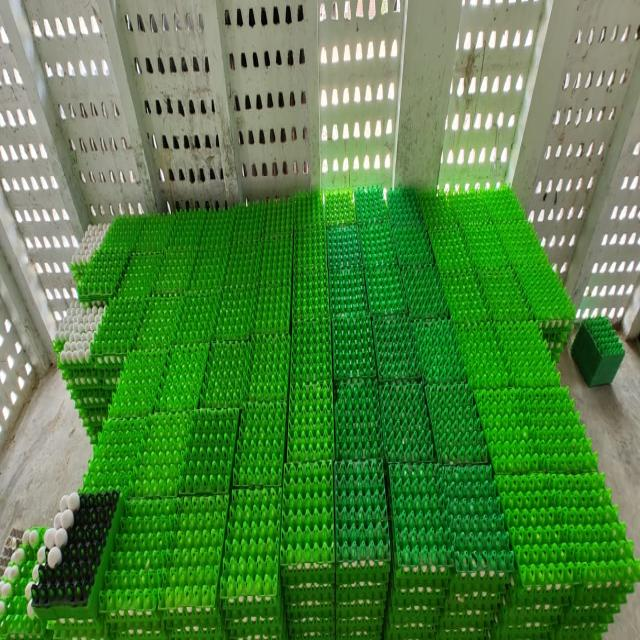egg_tray: (422, 190, 574, 360), (496, 475, 640, 636), (386, 463, 512, 636), (496, 474, 637, 585), (436, 465, 513, 631), (386, 463, 452, 637), (32, 492, 122, 617), (474, 386, 597, 472), (436, 466, 513, 595), (100, 498, 176, 628), (126, 409, 238, 497), (334, 461, 390, 635), (280, 461, 334, 636), (54, 301, 119, 441), (160, 496, 228, 627), (220, 487, 282, 628), (498, 219, 574, 332), (334, 460, 390, 598), (280, 462, 334, 598), (455, 321, 560, 388), (130, 412, 192, 496), (88, 299, 146, 386), (0, 528, 46, 636), (180, 409, 238, 493), (426, 383, 488, 461), (82, 417, 148, 490), (380, 380, 436, 461), (233, 401, 286, 486), (494, 322, 560, 387), (110, 347, 168, 417), (334, 379, 384, 459), (515, 264, 574, 331), (91, 297, 147, 367), (288, 380, 334, 460), (454, 324, 508, 389), (156, 344, 208, 411), (572, 318, 624, 385), (358, 221, 432, 268), (413, 320, 466, 383), (54, 301, 104, 367), (200, 341, 250, 407), (223, 587, 288, 637), (38, 494, 80, 569), (372, 316, 420, 379), (495, 212, 548, 269), (292, 273, 330, 352), (478, 264, 531, 320), (439, 264, 490, 321), (447, 189, 514, 232), (77, 247, 128, 302), (248, 335, 290, 400), (332, 316, 376, 378), (461, 216, 509, 272), (290, 318, 332, 382), (136, 294, 184, 349), (214, 280, 258, 339), (286, 585, 334, 639), (402, 265, 448, 318), (392, 207, 434, 265), (175, 291, 221, 342), (100, 217, 171, 250), (294, 191, 325, 265), (70, 225, 110, 280), (418, 191, 470, 233), (365, 263, 407, 313), (292, 266, 329, 322), (118, 252, 163, 297), (71, 389, 108, 443), (190, 242, 229, 293), (253, 280, 291, 332), (418, 191, 460, 238), (329, 265, 368, 315), (154, 247, 196, 293), (476, 186, 526, 224), (429, 227, 472, 271), (354, 224, 396, 268), (60, 361, 120, 391), (200, 207, 238, 253), (37, 615, 109, 639), (418, 192, 457, 236), (225, 240, 264, 284), (88, 420, 116, 481), (393, 224, 434, 265), (447, 191, 490, 230), (43, 614, 110, 639), (232, 202, 266, 251), (294, 225, 327, 275), (199, 209, 234, 256), (168, 209, 209, 249), (327, 225, 362, 271), (134, 214, 177, 251), (354, 186, 390, 229), (260, 236, 292, 283), (387, 186, 424, 225), (354, 186, 390, 224), (388, 187, 423, 225), (70, 387, 112, 418), (264, 198, 296, 238), (294, 191, 324, 233), (78, 402, 108, 443), (392, 194, 418, 241), (324, 189, 356, 225), (0, 528, 24, 571), (542, 328, 570, 363), (448, 216, 473, 245), (478, 207, 488, 222), (502, 187, 510, 195), (234, 235, 240, 244), (455, 212, 462, 219), (450, 597, 456, 605), (112, 477, 122, 481), (534, 242, 539, 250), (318, 361, 326, 366), (498, 243, 502, 252), (25, 532, 28, 542), (608, 585, 621, 587), (110, 460, 116, 464), (483, 212, 486, 220), (240, 240, 246, 244), (322, 368, 326, 374), (122, 477, 126, 482), (351, 589, 355, 594), (122, 471, 126, 475), (564, 573, 568, 577), (482, 219, 486, 223), (106, 234, 109, 239), (452, 207, 455, 211), (492, 189, 496, 192), (474, 199, 478, 202), (435, 230, 438, 233), (174, 620, 178, 622), (38, 635, 42, 637), (510, 195, 514, 197), (559, 580, 566, 581), (118, 459, 121, 461), (590, 566, 596, 567), (474, 220, 476, 223), (487, 602, 490, 604), (123, 444, 125, 446), (12, 531, 14, 533), (201, 619, 204, 620), (120, 464, 122, 465), (124, 461, 126, 462), (476, 282, 477, 284), (447, 229, 449, 230), (304, 229, 306, 230), (484, 216, 486, 217), (382, 207, 384, 208), (462, 211, 463, 212), (260, 254, 261, 255), (223, 260, 223, 260), (278, 582, 278, 584), (325, 255, 325, 257), (252, 226, 252, 228), (410, 220, 410, 221), (516, 200, 516, 201)
